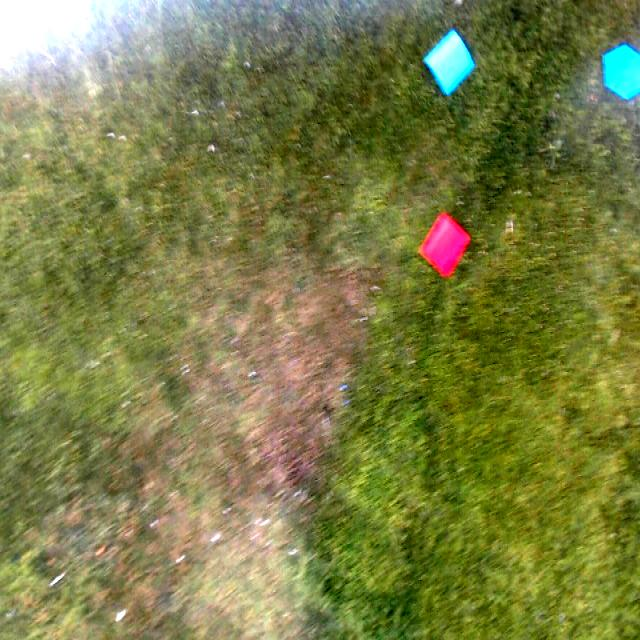blue_hexagon: (604, 43, 640, 98)
blue_square: (423, 29, 474, 97)
red_square: (419, 212, 470, 278)
